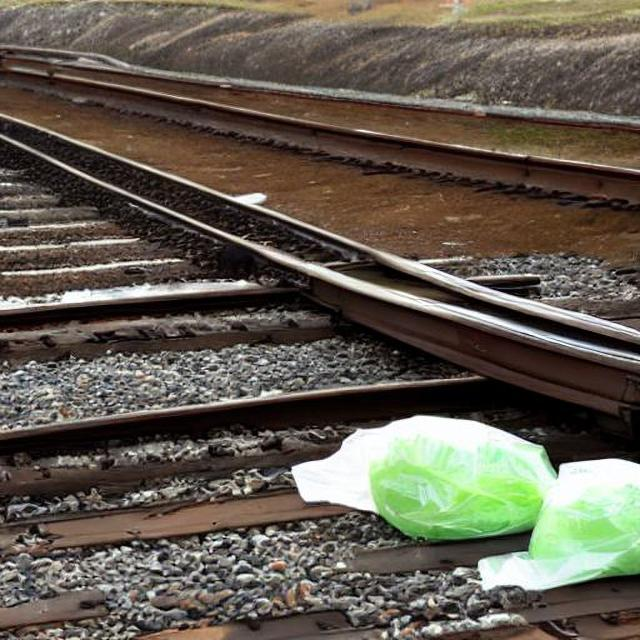plastic bag: (282, 410, 552, 537), (477, 453, 638, 593)
